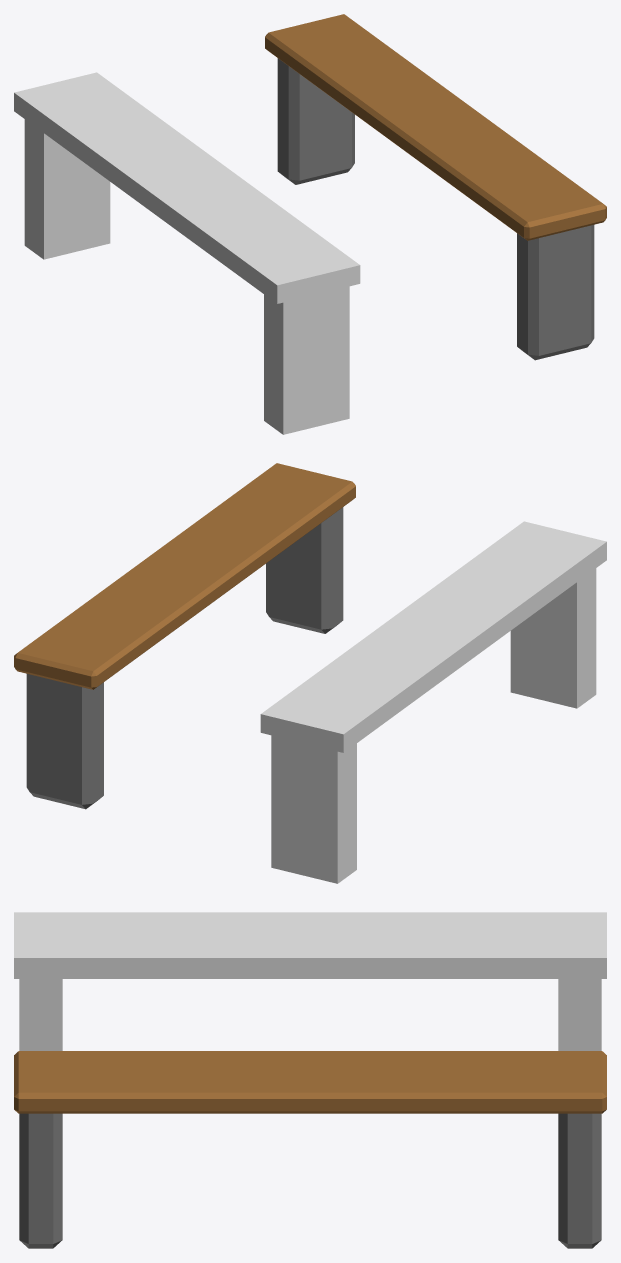
File: Bench v2.fbx
3 renders of one model, top to bottom at view 1: azimuth 30°, elevation 25°; view 2: azimuth 150°, elevation 25°; view 3: azimuth 270°, elevation 25°, orthographic. The views are drawn at different scales.
Visible parts, largest first — view 1: Cube.003, Cube.002, Cube.004, Cube.001, Cube.005, Cube; view 2: Cube.003, Cube.002, Cube.005, Cube, Cube.004, Cube.001; view 3: Cube.003, Cube.002, Cube, Cube.001, Cube.004, Cube.005.
Boxes of the visible parts, x1=… form: Cube.003: x1=14, y1=72, x2=360, y2=303; Cube.002: x1=265, y1=14, x2=606, y2=240; Cube.004: x1=264, y1=286, x2=349, y2=434; Cube.001: x1=517, y1=225, x2=594, y2=360; Cube.005: x1=24, y1=119, x2=110, y2=259; Cube: x1=277, y1=58, x2=354, y2=184; Cube.003: x1=260, y1=521, x2=606, y2=752; Cube.002: x1=14, y1=463, x2=355, y2=689; Cube.005: x1=271, y1=735, x2=356, y2=883; Cube: x1=26, y1=674, x2=103, y2=809; Cube.004: x1=510, y1=568, x2=596, y2=708; Cube.001: x1=266, y1=507, x2=343, y2=633; Cube.003: x1=14, y1=912, x2=606, y2=978; Cube.002: x1=14, y1=1051, x2=606, y2=1113; Cube: x1=558, y1=1113, x2=601, y2=1248; Cube.001: x1=19, y1=1113, x2=62, y2=1248; Cube.004: x1=19, y1=979, x2=62, y2=1050; Cube.005: x1=558, y1=979, x2=601, y2=1050.
Bounding box in the file's own units: 800 × 353 × 1100.
